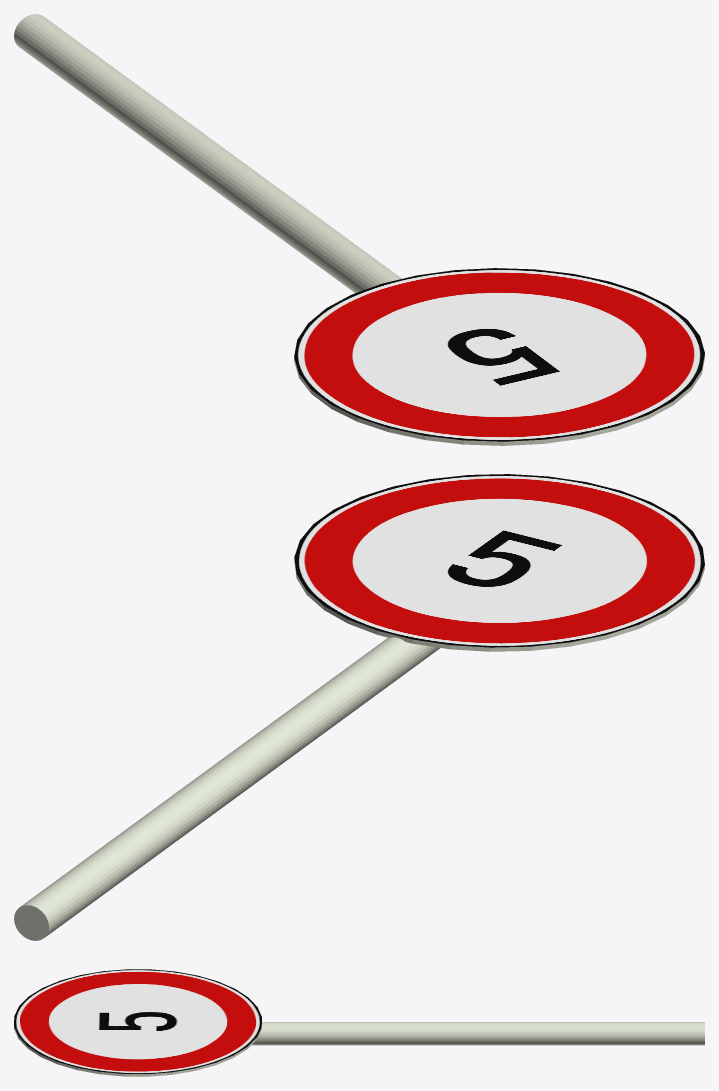
The picture shows the model from 3 angles, top to bottom: view 1: azimuth 30°, elevation 25°; view 2: azimuth 150°, elevation 25°; view 3: azimuth 270°, elevation 25°; orthographic projection. The views are drawn at different scales.
Visible parts, largest first — view 1: Circle.004, 5_tube; view 2: Circle.004, 5_tube; view 3: Circle.004, 5_tube.
Boxes of the visible parts, x1,y1,x2,y2 form: Circle.004: (294,268,704,445); 5_tube: (14,14,401,293); Circle.004: (294,474,704,651); 5_tube: (14,637,439,940); Circle.004: (14,969,261,1076); 5_tube: (252,1022,704,1045).
Bounding box in the file's own units: 0.0516 × 0.00514 × 0.1437.
3 materials, 1 textured.
